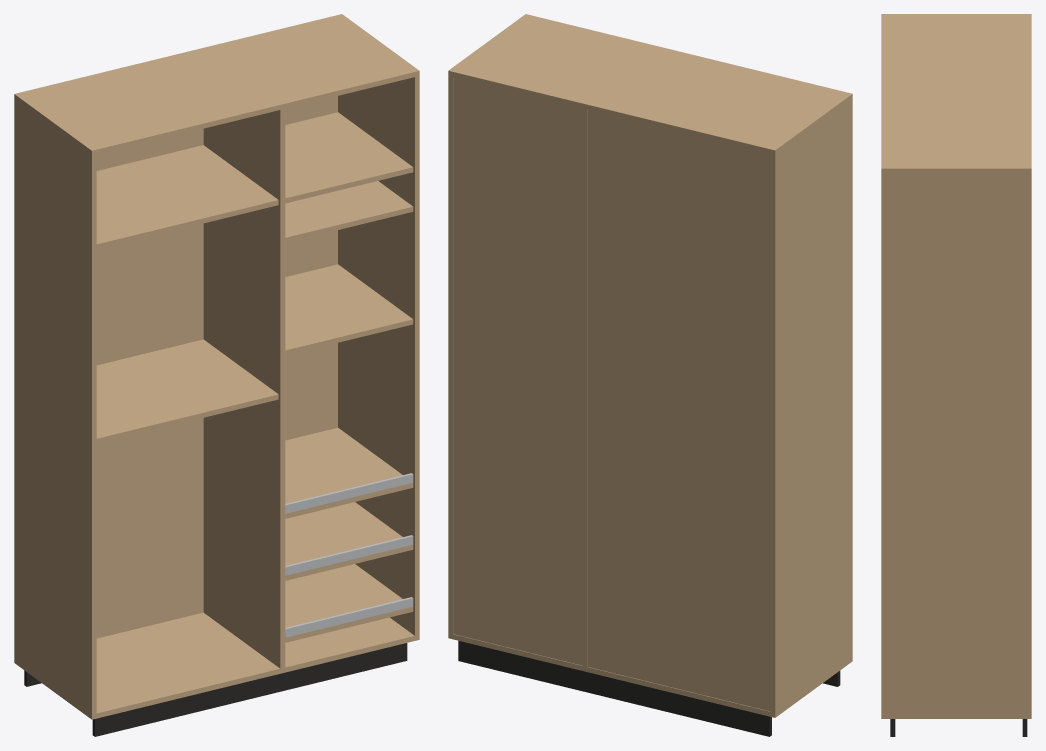
Rendered from 20_garderoba_120.glb.
3 renders of one model, left to right at view 1: azimuth 30°, elevation 25°; view 2: azimuth 150°, elevation 25°; view 3: azimuth 270°, elevation 25°, orthographic. The views are drawn at different scales.
Parts seen in each view (by area): view 1: Korpus, Cokol, Listwy; view 2: Korpus, Cokol; view 3: Korpus.
Boxes of the visible parts, x1,y1,x2,y2 form: Korpus: (14,14,419,719); Cokol: (24,643,407,736); Listwy: (285,473,413,637); Korpus: (448,14,852,717); Cokol: (458,640,840,736); Korpus: (881,14,1031,718).
Size of the model in its own units: 1.22 by 2.1 by 0.5.
